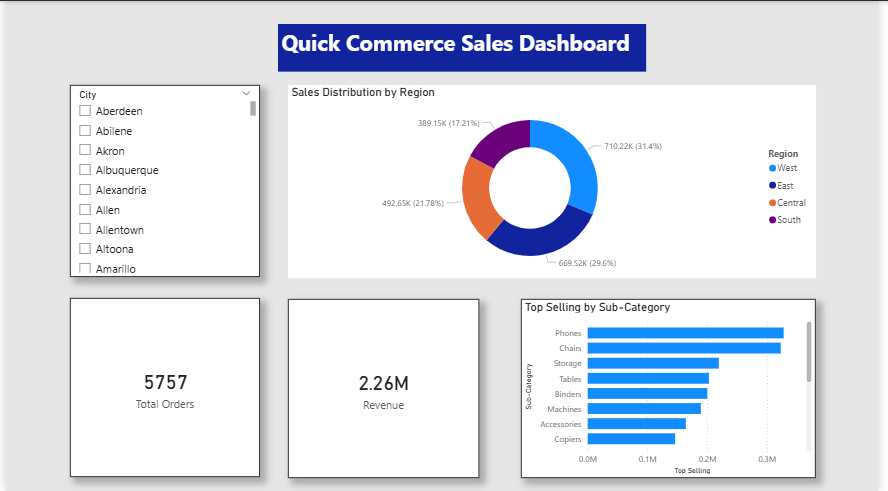

Layout of this report page (visuals, bound fields, positions):
{"tool":"powerbi","page":{"name":"Page 1","canvas":[1280,720],"ordinal":0},"visuals":[{"type":"card","fields":{"Values":["Sum(QuickCommerce_India_Data.Sales)"]},"box":[414.4,437.9,280.7,263],"z":0},{"type":"card","fields":{"Values":["Count(QuickCommerce_India_Data.Sales)"]},"box":[94,436.4,279.2,263],"z":1000},{"type":"clusteredBarChart","fields":{"Category":["QuickCommerce_India_Data.Sub-Category"],"Y":["Sum(QuickCommerce_India_Data.Sales)"]},"box":[756.7,437.9,433.5,263],"z":2000},{"type":"slicer","fields":{"Values":["QuickCommerce_India_Data.City"]},"box":[94,123.4,279.2,282.1],"z":3000},{"type":"textbox","box":[399.7,33.5,540.5,70.4],"z":4000},{"type":"donutChart","fields":{"Category":["QuickCommerce_India_Data.Region"],"Y":["Sum(QuickCommerce_India_Data.Sales)"]},"box":[414.4,123.4,775.8,283.6],"z":5000}]}

Visuals, with their boxes in screenshot pixels (x1, y1, x2, y2), scaled from the page's 1280x720 canvas onto the 888x491 screenshot:
card - Sum(QuickCommerce_India_Data.Sales): [287, 299, 482, 478]
card - Count(QuickCommerce_India_Data.Sales): [65, 298, 259, 477]
clusteredBarChart - QuickCommerce_India_Data.Sub-Category x Sum(QuickCommerce_India_Data.Sales): [525, 299, 826, 478]
slicer - QuickCommerce_India_Data.City: [65, 84, 259, 277]
textbox: [277, 23, 652, 71]
donutChart - QuickCommerce_India_Data.Region x Sum(QuickCommerce_India_Data.Sales): [287, 84, 826, 278]
